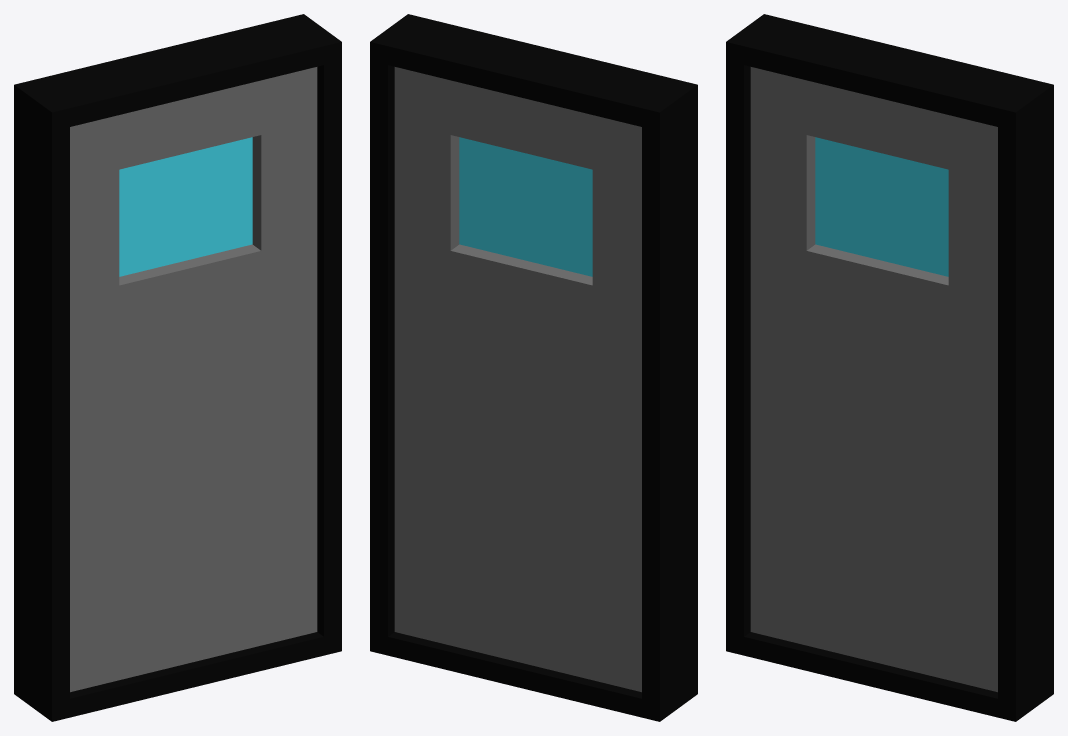
The model's file is KitchenDoors.fbx.
3 views of the same model, side by side, from view 1: azimuth 30°, elevation 25°; view 2: azimuth 150°, elevation 25°; view 3: azimuth 330°, elevation 25° (orthographic).
Parts seen in each view (by area): view 1: Door; view 2: Door; view 3: Door.
Part boxes in pixels (x1,y1,x2,y2): Door: (14,14,341,721); Door: (370,14,697,721); Door: (726,14,1053,721).
Bounding box in the file's own units: 200 × 402 × 45.51.
